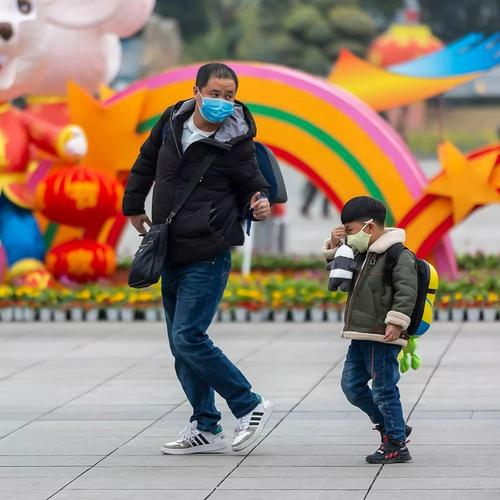mask: (198, 66, 239, 126), (344, 211, 379, 255)
